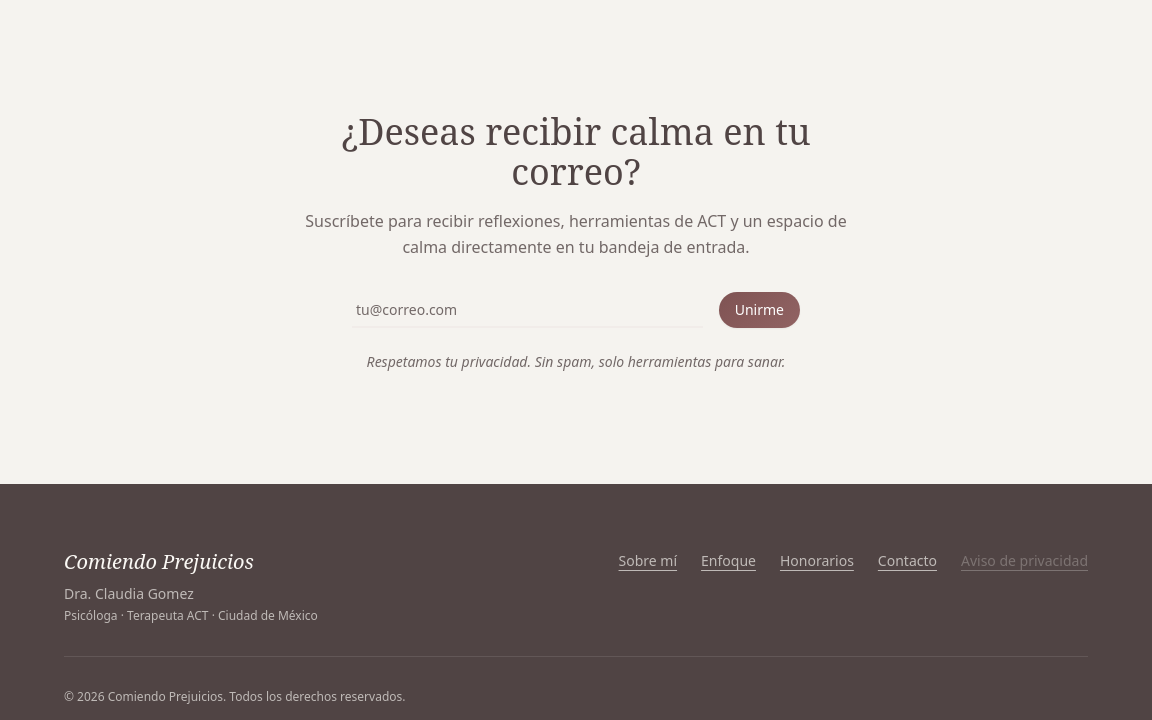
Test: Newsletter › shows a confirmation after submitting a valid email
In the field named "Correo electrónico": {"x": 527, "y": 310} [352, 292, 703, 328], type "lectora@correo.com"
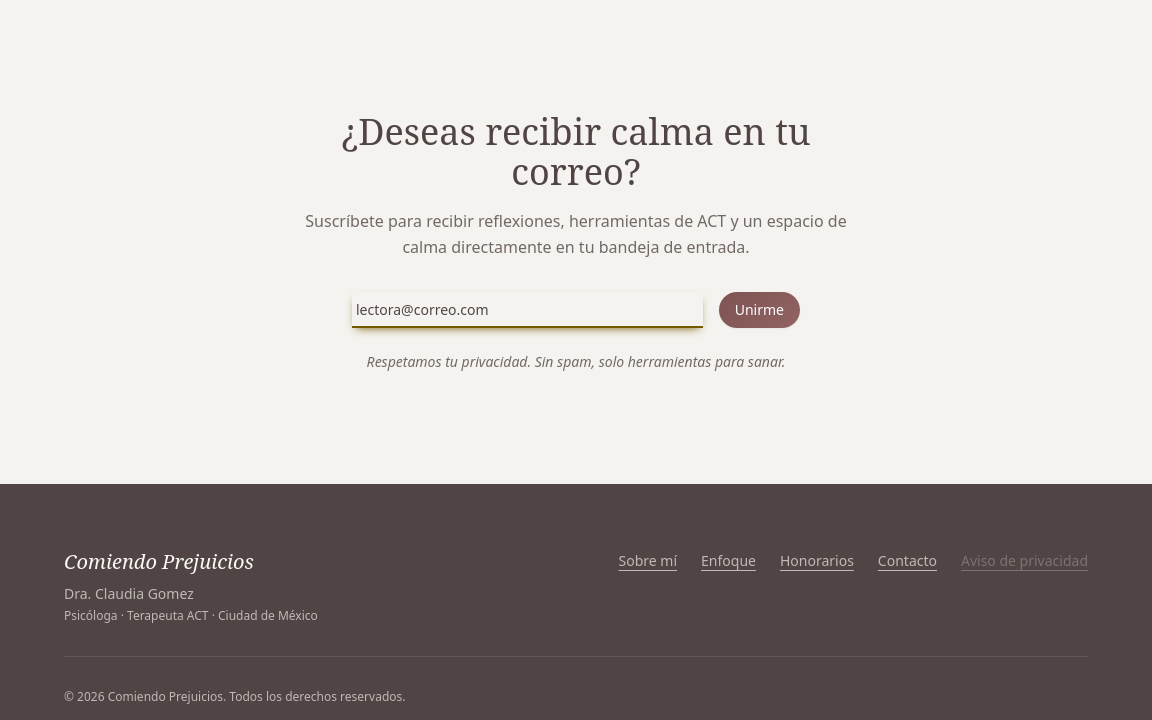
Click the button "Unirme": {"x": 759, "y": 310} [719, 292, 800, 328]
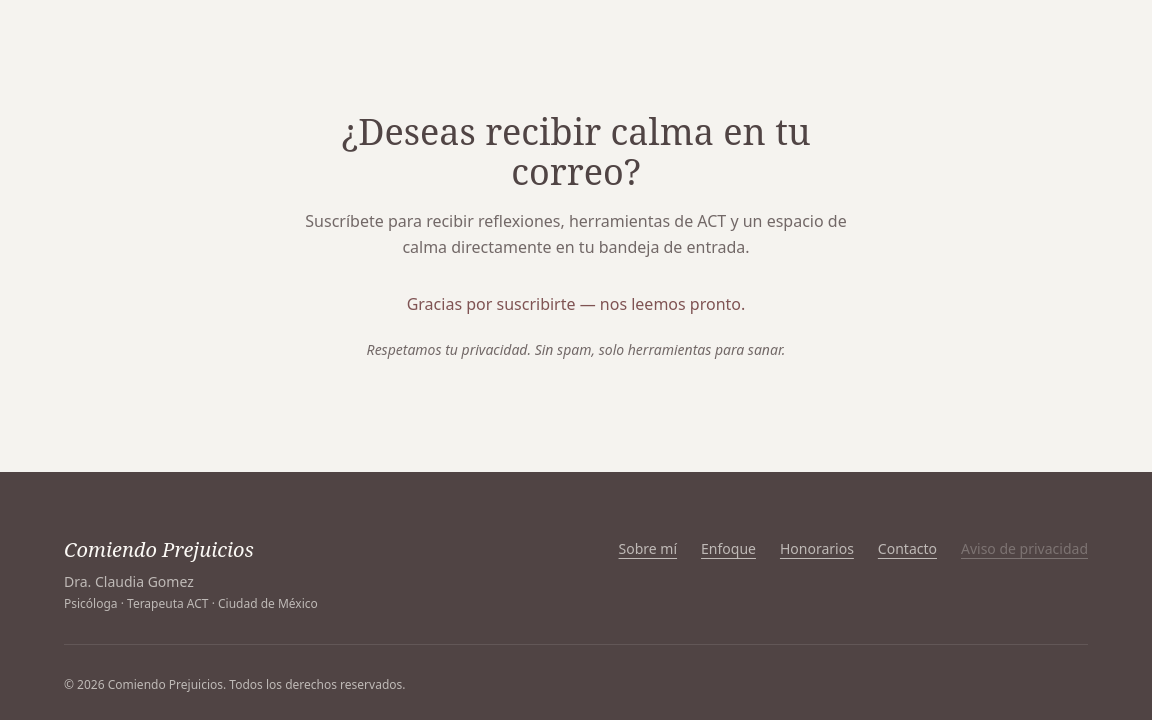
expect the text "Gracias por suscribirte — nos leemos pronto." is shown: met, box [407, 293, 745, 315]
